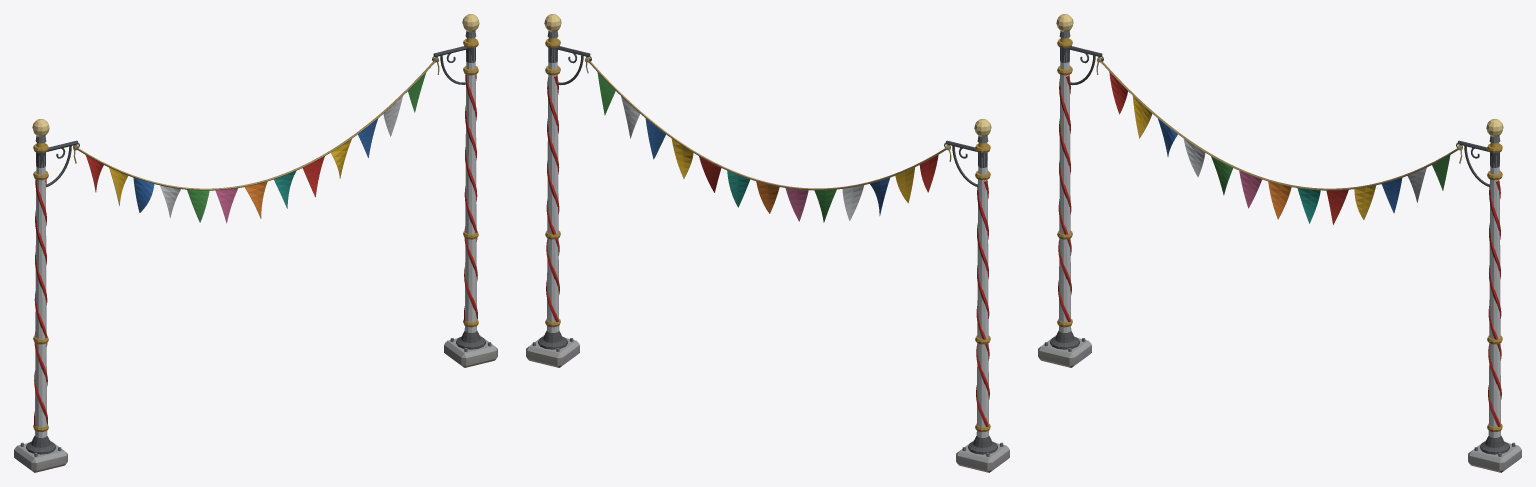
File: bunting-strand.glb
3 renders of one model, left to right at view 1: azimuth 30°, elevation 25°; view 2: azimuth 150°, elevation 25°; view 3: azimuth 330°, elevation 25°, orthographic.
Parts seen in each view (by area): view 1: bunting_strand; view 2: bunting_strand; view 3: bunting_strand.
Part boxes in pixels (x1,y1,x2,y2): bunting_strand: (14,14,497,472); bunting_strand: (526,14,1009,472); bunting_strand: (1038,14,1521,472).
Bounding box in the file's own units: 4.34 × 3.05 × 0.3399.
